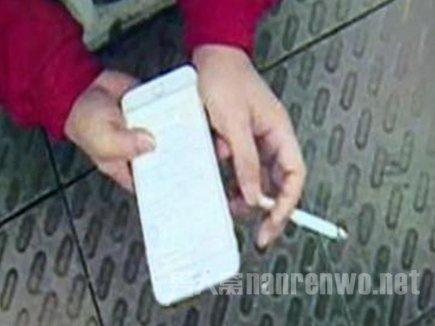Cigarette: (256, 193, 347, 243)
